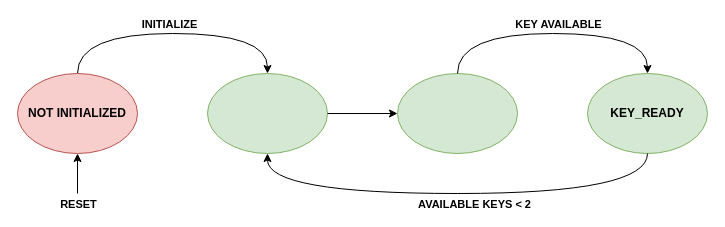
The diagram is 725 pixels wide and 227 high, and some of its shapes have lost their labels. Here are the shapes that lost their labels. From the top down, the centre of each, then its label:
At point 267,113: "KEY_GEN_START".
At point 457,113: "KEY_GEN".
